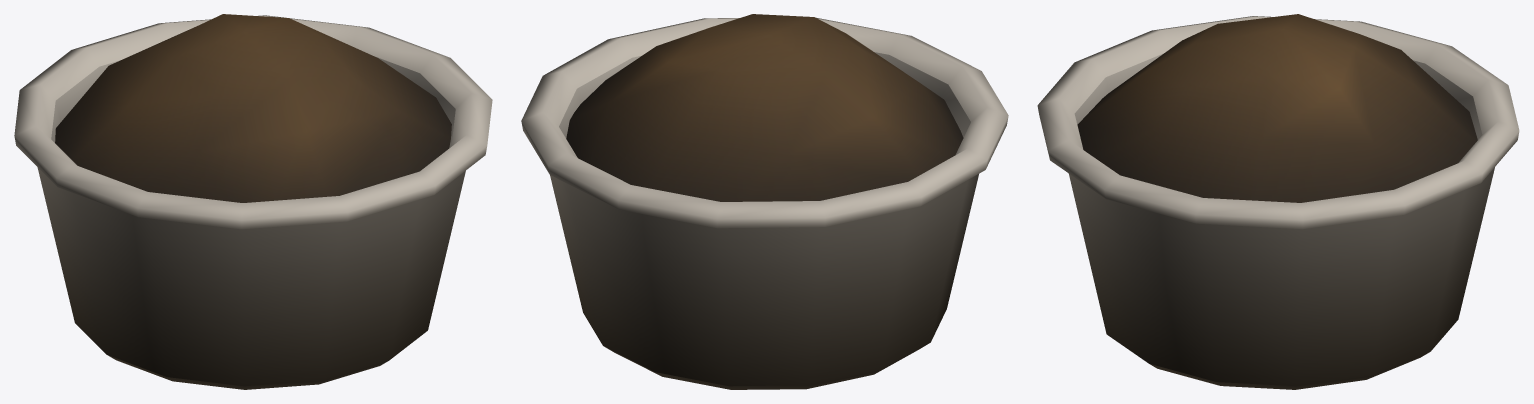
File: ing_BowlPudding.fbx
3 views of the same model, side by side, from view 1: azimuth 30°, elevation 25°; view 2: azimuth 150°, elevation 25°; view 3: azimuth 270°, elevation 25° (orthographic).
Visible parts, largest first — view 1: sm_BowlPudding; view 2: sm_BowlPudding; view 3: sm_BowlPudding.
Boxes of the visible parts, <box> form: sm_BowlPudding: <box>14,14,492,389</box>; sm_BowlPudding: <box>521,14,1008,389</box>; sm_BowlPudding: <box>1037,14,1519,389</box>.
Size of the model in its own units: 21.35 by 13.96 by 21.29.
